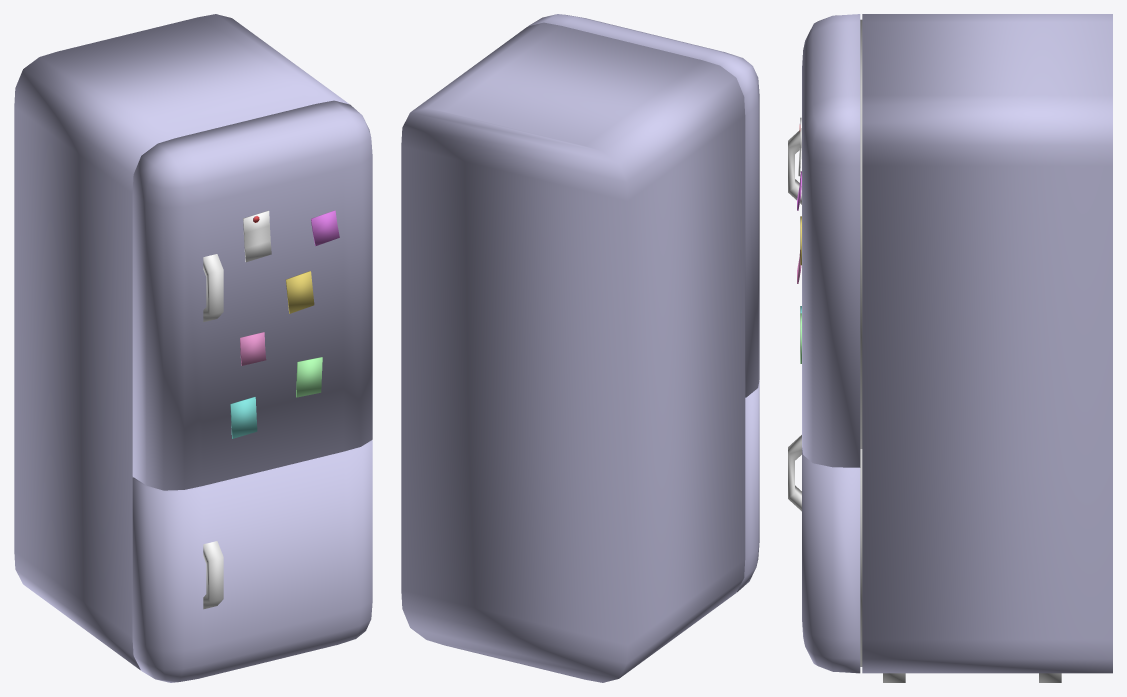
File: Fridge.B.fbx
3 renders of one model, left to right at view 1: azimuth 30°, elevation 25°; view 2: azimuth 150°, elevation 25°; view 3: azimuth 270°, elevation 25°, orthographic. The views are drawn at different scales.
Visible parts, largest first — view 1: Fridge.B; view 2: Fridge.B; view 3: Fridge.B.
Part boxes in pixels (<box>): Fridge.B: <box>14,14,372,682</box>; Fridge.B: <box>401,14,759,682</box>; Fridge.B: <box>788,14,1112,682</box>.
Size of the model in its own units: 83.54 by 193 by 97.08.
